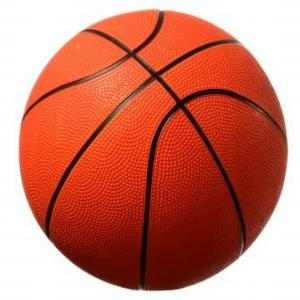Basket: (19, 10, 289, 291)
